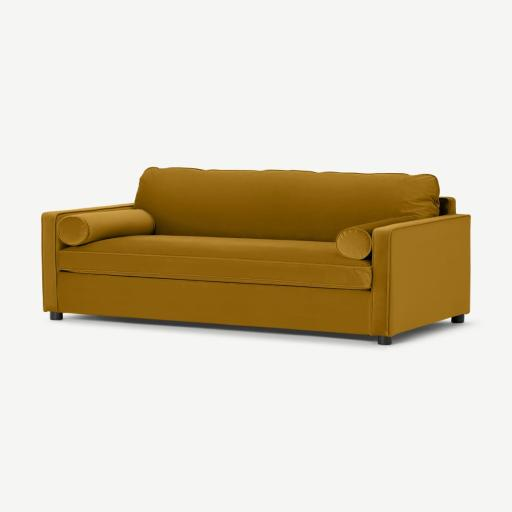back_cushion: (135, 168, 440, 248)
base: (57, 272, 371, 335)
left_arm: (369, 214, 469, 336)
legs: (377, 336, 391, 345), (452, 314, 463, 323), (50, 312, 62, 320)
one-seater: (42, 168, 470, 344)
right_arm: (42, 204, 133, 312)
seat_cushion: (58, 235, 372, 290)
